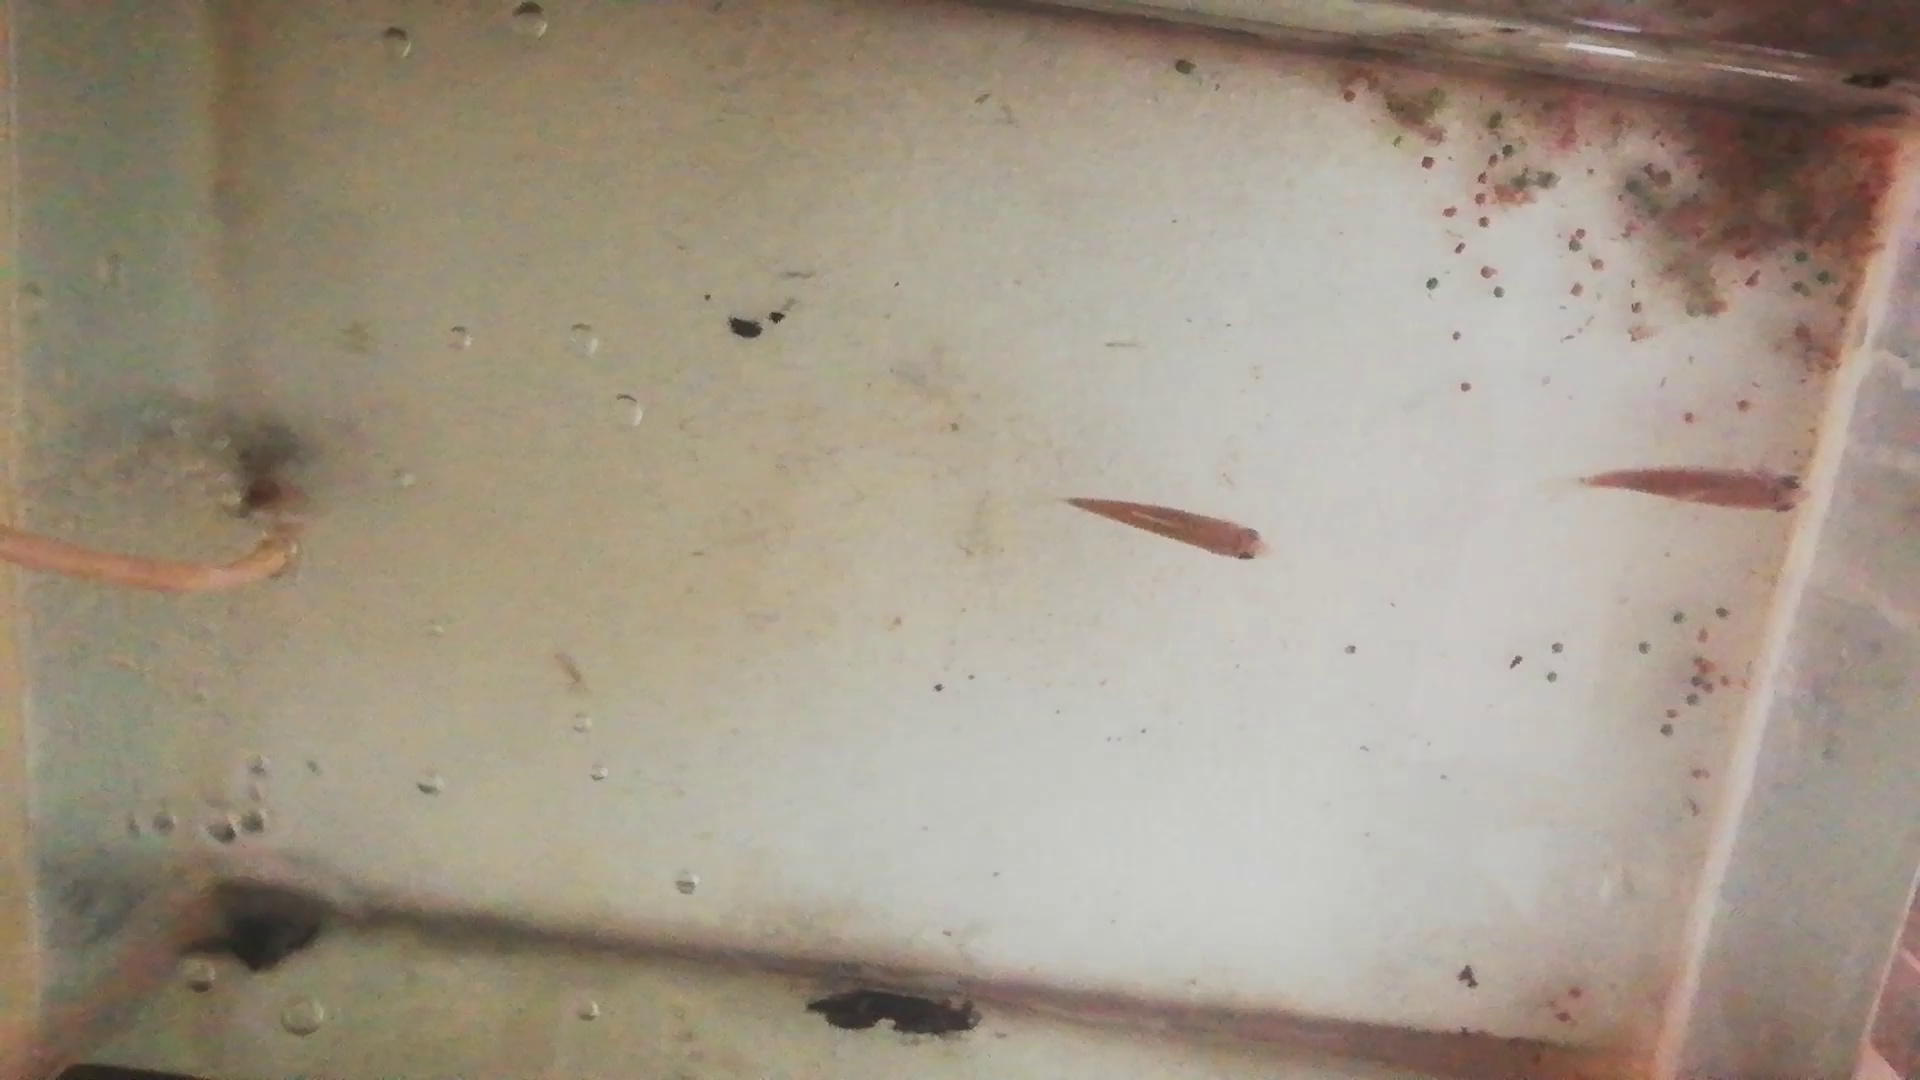fish: (1065, 495, 1270, 566), (1585, 462, 1812, 520)
